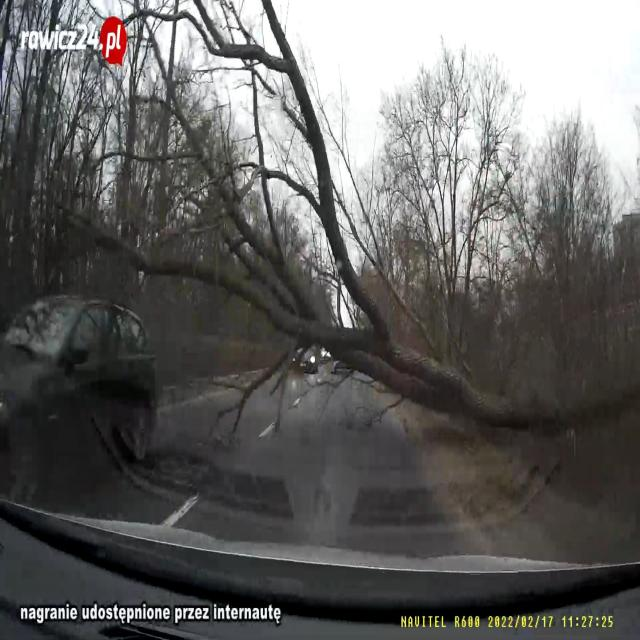fallen_tree: (180, 261, 559, 437)
